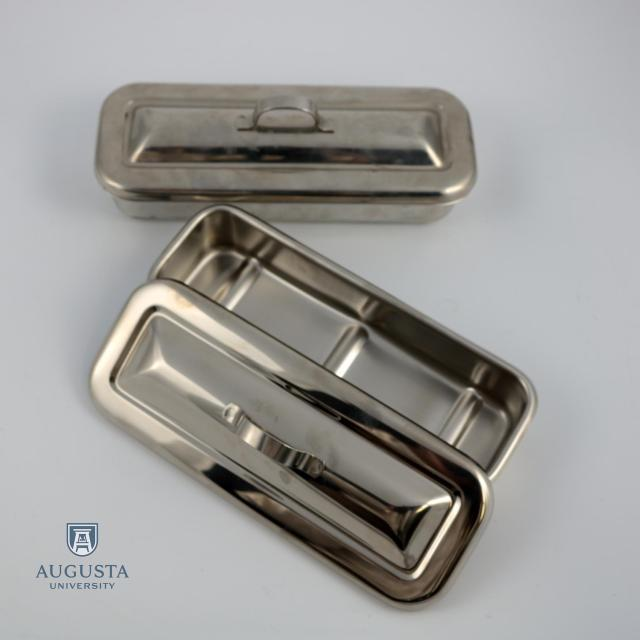Catheter Tray: (142, 198, 540, 507), (90, 70, 487, 229)
